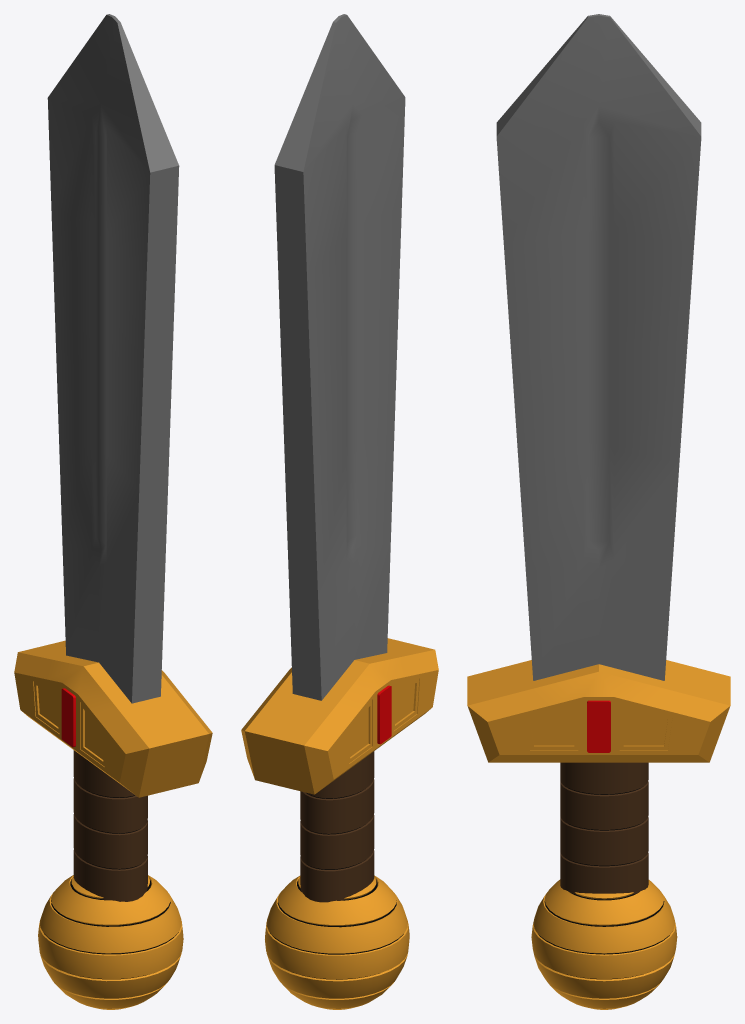
File: kılıcmaujam.fbx
3 views of the same model, side by side, from view 1: azimuth 30°, elevation 25°; view 2: azimuth 150°, elevation 25°; view 3: azimuth 270°, elevation 25° (orthographic).
Visible parts, largest first — view 1: Gold; view 2: Gold; view 3: Gold.
Boxes of the visible parts, left/top/right/bottom form: Gold: left=14, top=14, right=212, bottom=1009; Gold: left=241, top=14, right=438, bottom=1009; Gold: left=467, top=14, right=730, bottom=1009.
Bounding box in the file's own units: 20.06 × 150 × 36.19.
